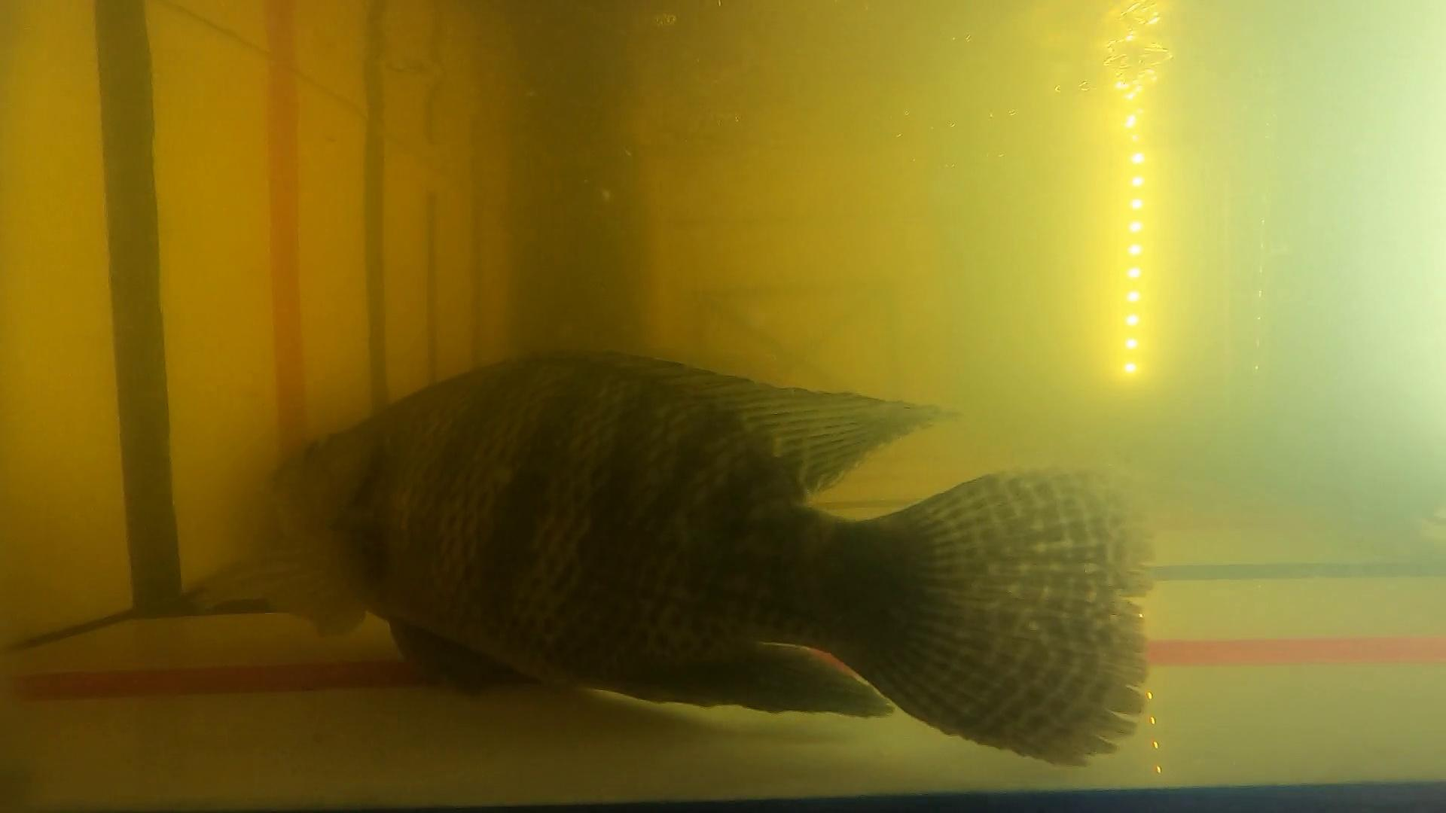Tilapia: (243, 354, 1153, 769)
